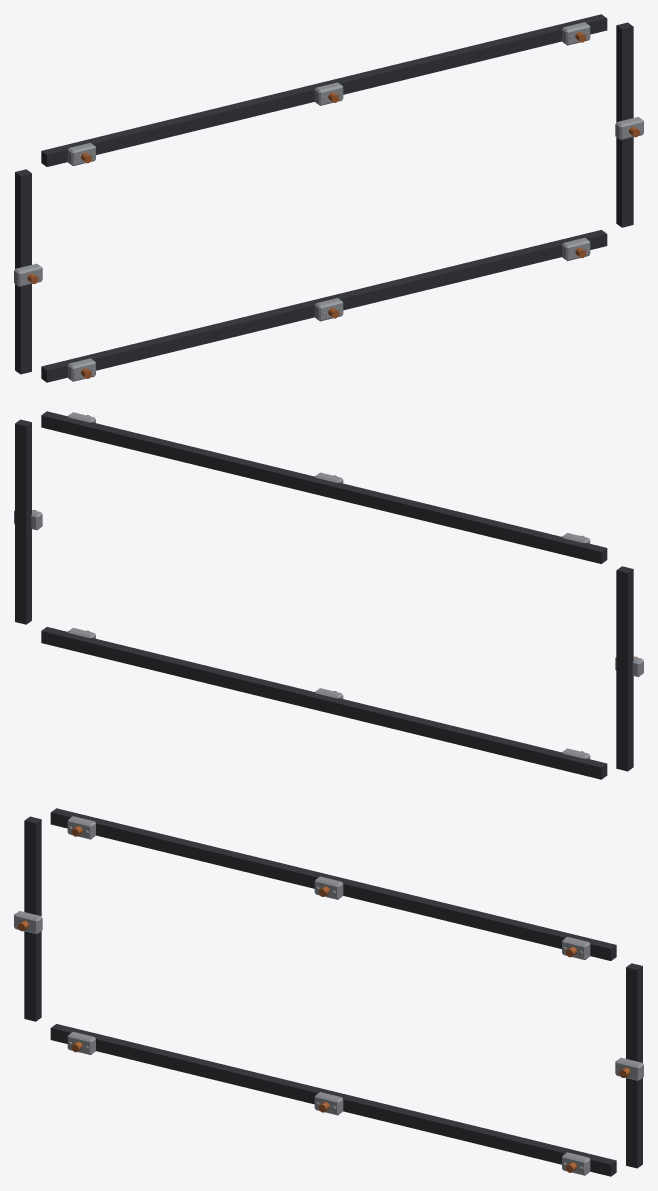
File: ec2_separation.obj
3 views of the same model, one above another, from view 1: azimuth 30°, elevation 25°; view 2: azimuth 150°, elevation 25°; view 3: azimuth 330°, elevation 25° (orthographic).
Visible parts, largest first — view 1: ec2_separation; view 2: ec2_separation; view 3: ec2_separation.
Boxes of the visible parts, <box> form: ec2_separation: <box>14,14,643,382</box>; ec2_separation: <box>14,411,643,779</box>; ec2_separation: <box>14,808,643,1176</box>.
Bounding box in the file's own units: 7.6 × 2.68 × 0.3.
